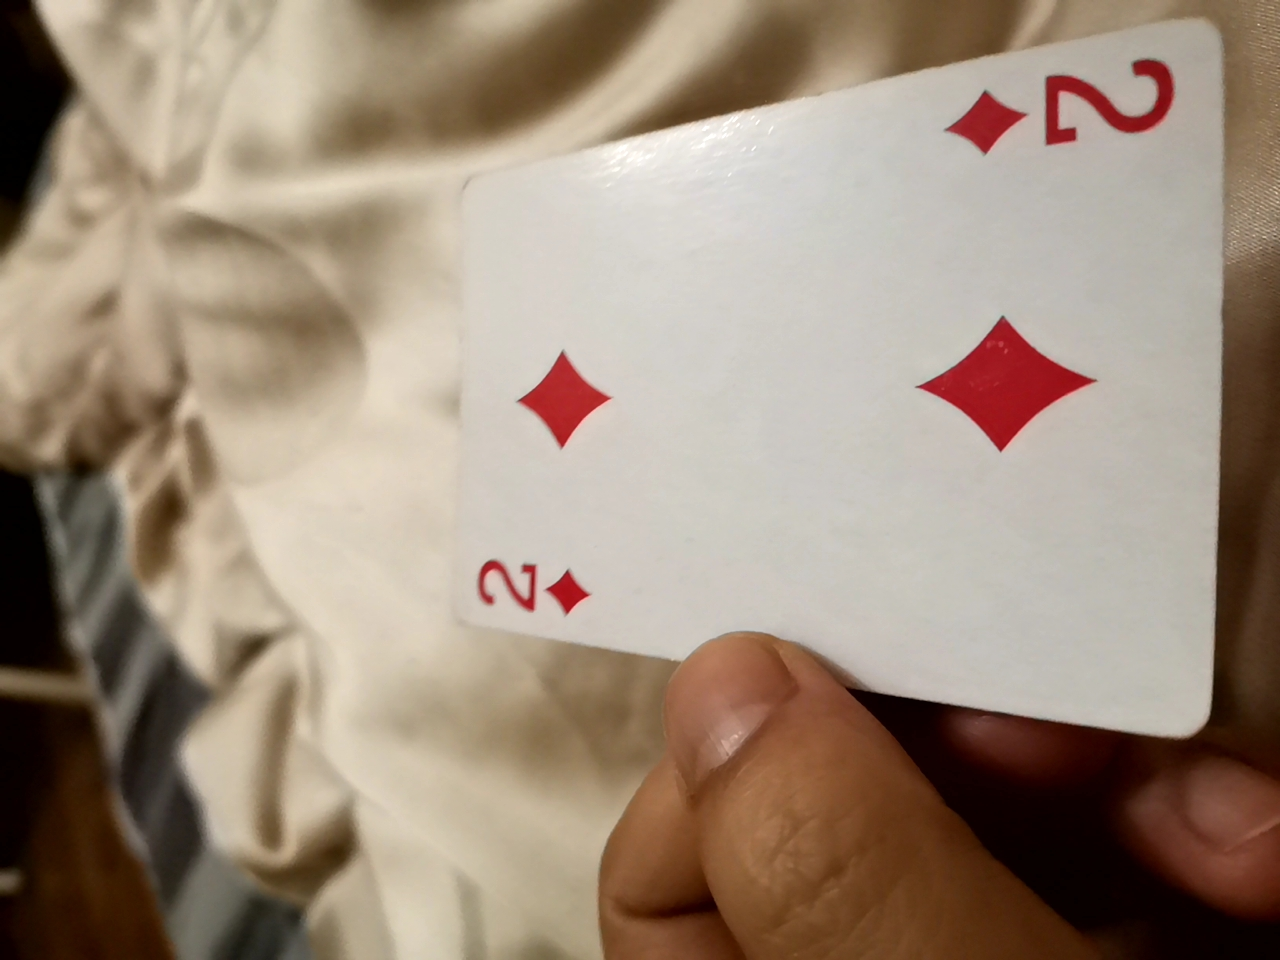fk 2: (377, 15, 1235, 740)
